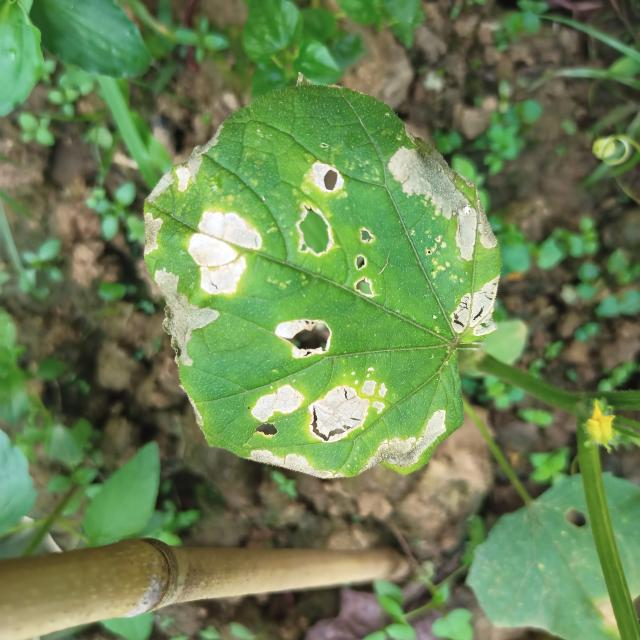disease_cucumber: (136, 138, 379, 372), (185, 369, 456, 484), (381, 130, 509, 344)
